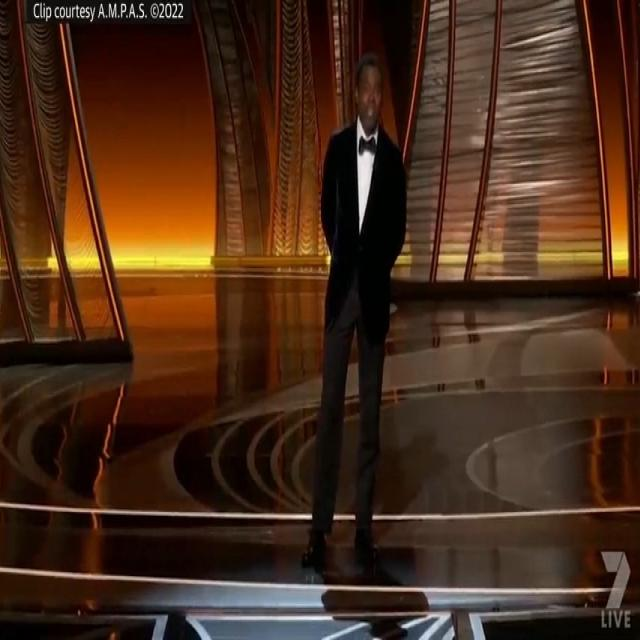non-fight: (295, 31, 413, 591)
